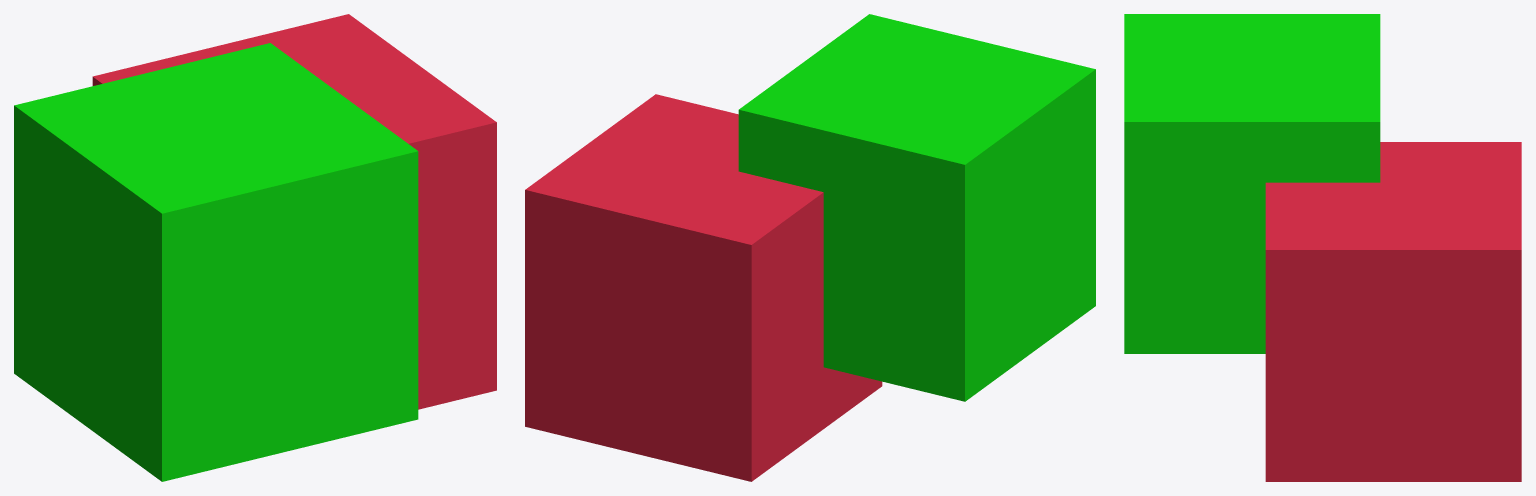
File: only BOX.fbx
3 views of the same model, side by side, from view 1: azimuth 30°, elevation 25°; view 2: azimuth 150°, elevation 25°; view 3: azimuth 270°, elevation 25° (orthographic). The views are drawn at different scales.
Parts seen in each view (by area): view 1: Cube.002; view 2: Cube.002; view 3: Cube.002.
Part boxes in pixels (bbox=[...]): Cube.002: bbox=[14, 14, 496, 481]; Cube.002: bbox=[525, 14, 1095, 481]; Cube.002: bbox=[1124, 14, 1521, 481].
Size of the model in its own units: 325 by 252 by 310.
